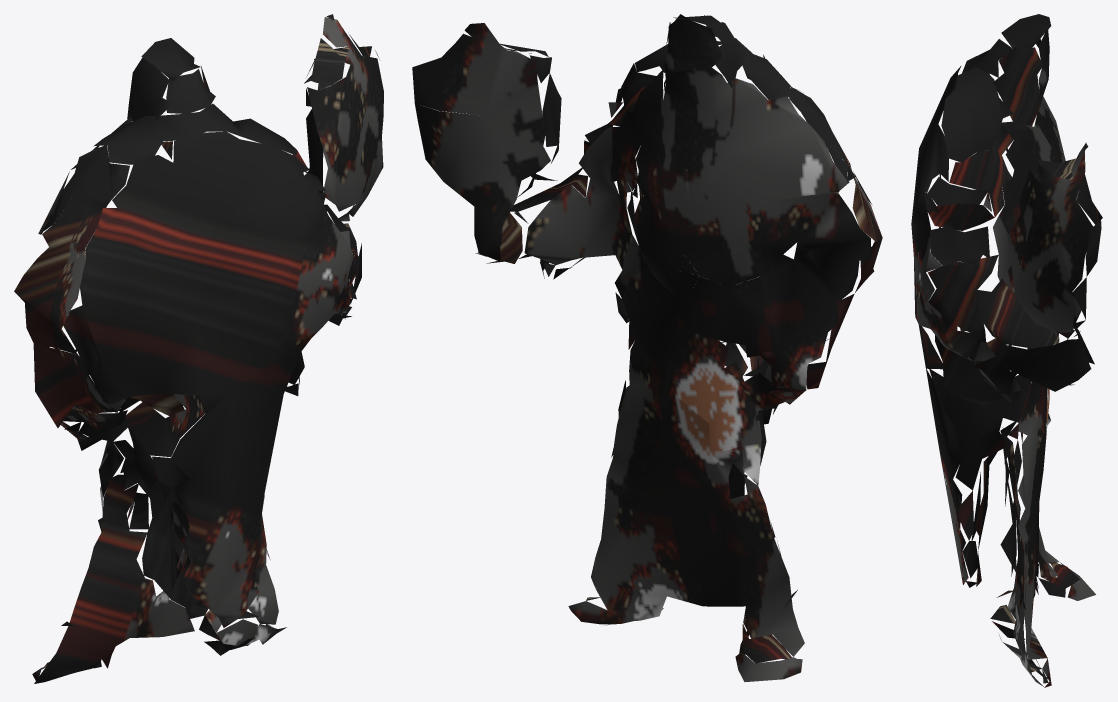
3 views of the same model, side by side, from view 1: azimuth 30°, elevation 25°; view 2: azimuth 150°, elevation 25°; view 3: azimuth 270°, elevation 25° (orthographic).
Parts seen in each view (by area): view 1: body.002; view 2: body.002; view 3: body.002.
Part boxes in pixels (x1,y1,x2,y2): body.002: (14, 14, 383, 683); body.002: (412, 14, 882, 681); body.002: (911, 14, 1102, 687).
Size of the model in its own units: 1.36 by 1.99 by 0.5571.
1 material, 1 textured.
